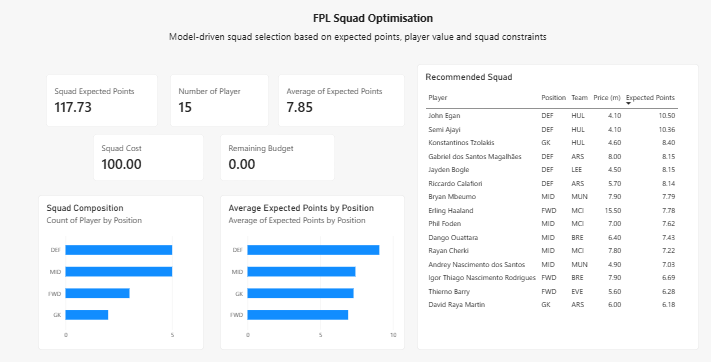

Layout of this report page (visuals, bound fields, positions):
{"tool":"powerbi","page":{"name":"Squad Optimisation","canvas":[1920,1080],"ordinal":3},"visuals":[{"type":"textbox","box":[636,20,352,62],"z":0},{"type":"textbox","box":[348,60,824,44],"z":1},{"type":"cardVisual","fields":{"Data":["Sum(TEAM.Expected Points)"]},"box":[102,148,224,106],"z":2},{"type":"tableEx","title":"Recommended Squad","fields":{"Values":["TEAM.Player","TEAM.Position","TEAM.Team","TEAM.Price (m)","TEAM.Expected Points"]},"box":[844,128,564,572],"z":3},{"type":"cardVisual","fields":{"Data":["TEAM.Squad Cost"]},"box":[196,268,222,94],"z":4},{"type":"cardVisual","fields":{"Data":["CountNonNull(TEAM.Player)"]},"box":[350,148,198,106],"z":5},{"type":"cardVisual","fields":{"Data":["Avg(TEAM.Expected Points)"]},"box":[566,148,254,106],"z":6},{"type":"barChart","title":"Squad Composition","fields":{"Category":["TEAM.Position"],"Y":["Count(TEAM.Player)"]},"box":[86,390,332,310],"z":7},{"type":"cardVisual","fields":{"Data":["TEAM.Remaining Budget"]},"box":[450,268,230,94],"z":8},{"type":"barChart","title":"Average Expected Points by Position","fields":{"Category":["TEAM.Position"],"Y":["Avg(TEAM.Expected Points)"]},"box":[450,390,370,310],"z":9}]}

Visuals, with their boxes on the page's 1920x1080 design canvas (x1, y1, x2, y2). These are canvas units, not pixel positions in the 711x362 screenshot, which may show the page scaled, cropped or inside an application window:
textbox: region(636, 20, 988, 82)
textbox: region(348, 60, 1172, 104)
cardVisual - Sum(TEAM.Expected Points): region(102, 148, 326, 254)
"Recommended Squad" tableEx: region(844, 128, 1408, 700)
cardVisual - TEAM.Squad Cost: region(196, 268, 418, 362)
cardVisual - CountNonNull(TEAM.Player): region(350, 148, 548, 254)
cardVisual - Avg(TEAM.Expected Points): region(566, 148, 820, 254)
"Squad Composition" barChart: region(86, 390, 418, 700)
cardVisual - TEAM.Remaining Budget: region(450, 268, 680, 362)
"Average Expected Points by Position" barChart: region(450, 390, 820, 700)
